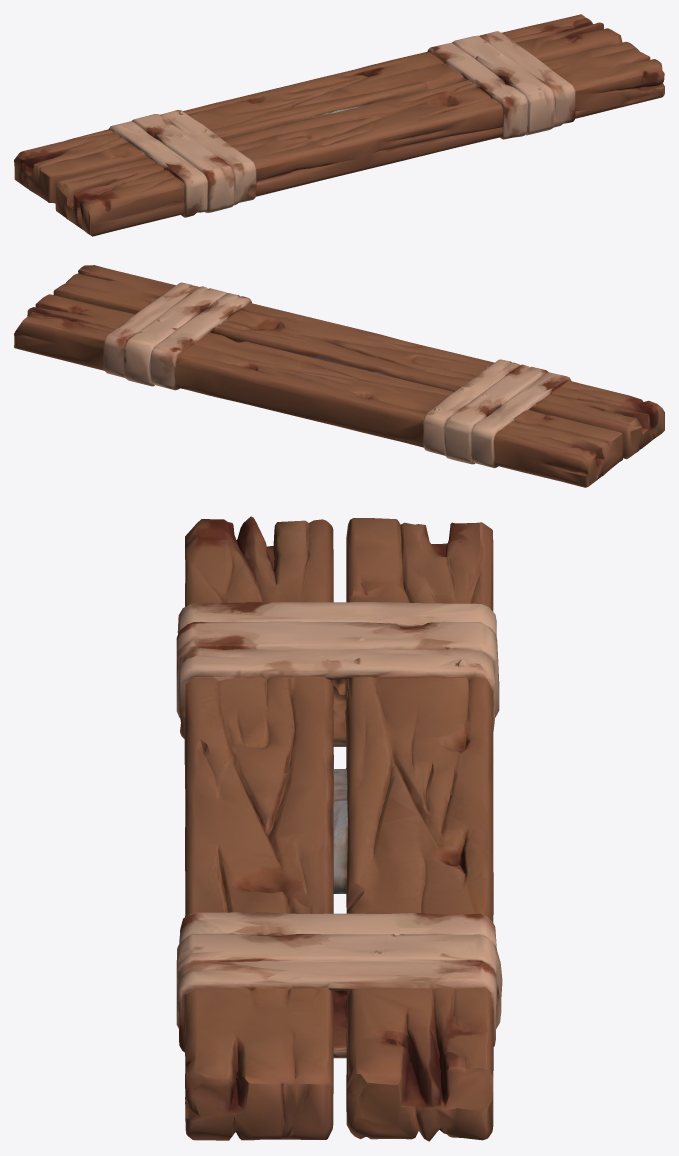
File: mat_plank_b_idle.glb
3 views of the same model, one above another, from view 1: azimuth 30°, elevation 25°; view 2: azimuth 150°, elevation 25°; view 3: azimuth 270°, elevation 25° (orthographic). The views are drawn at different scales.
Parts seen in each view (by area): view 1: tripo_node_7a2d5dc6-3ca3-48fc-abdc-588362d9e0da; view 2: tripo_node_7a2d5dc6-3ca3-48fc-abdc-588362d9e0da; view 3: tripo_node_7a2d5dc6-3ca3-48fc-abdc-588362d9e0da.
Boxes of the visible parts, box(x1,y1,x2,y2) form: tripo_node_7a2d5dc6-3ca3-48fc-abdc-588362d9e0da: box(14, 14, 664, 236); tripo_node_7a2d5dc6-3ca3-48fc-abdc-588362d9e0da: box(14, 265, 664, 487); tripo_node_7a2d5dc6-3ca3-48fc-abdc-588362d9e0da: box(176, 516, 502, 1141).
Bounding box in the file's own units: 1.5 × 0.1101 × 0.3671.
1 material, 1 textured.
